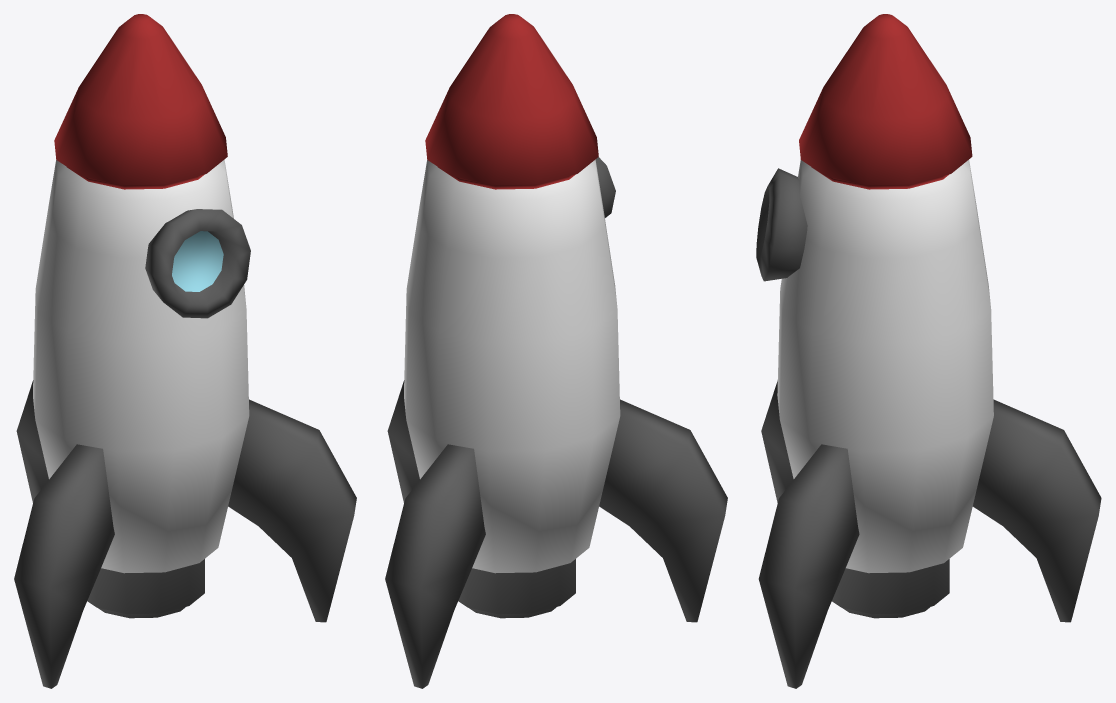
The model's file is Rocket.fbx.
The picture shows the model from 3 angles, left to right: view 1: azimuth 30°, elevation 25°; view 2: azimuth 150°, elevation 25°; view 3: azimuth 270°, elevation 25°; orthographic projection.
Visible parts, largest first — view 1: rocket; view 2: rocket; view 3: rocket.
Boxes of the visible parts, <box> form: rocket: <box>14,14,356,688</box>; rocket: <box>385,14,727,688</box>; rocket: <box>756,14,1101,688</box>.
Size of the model in its own units: 1092 by 1847 by 960.
